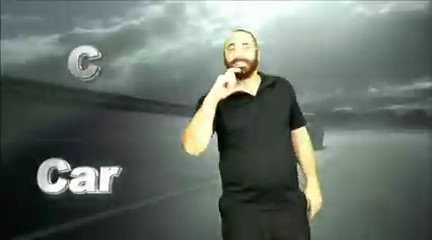C: (212, 64, 245, 102)
